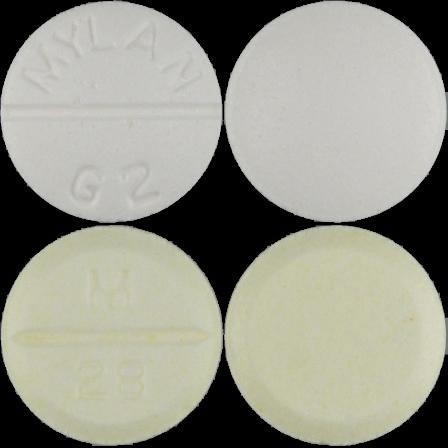51079-811: (0, 0, 224, 224)
